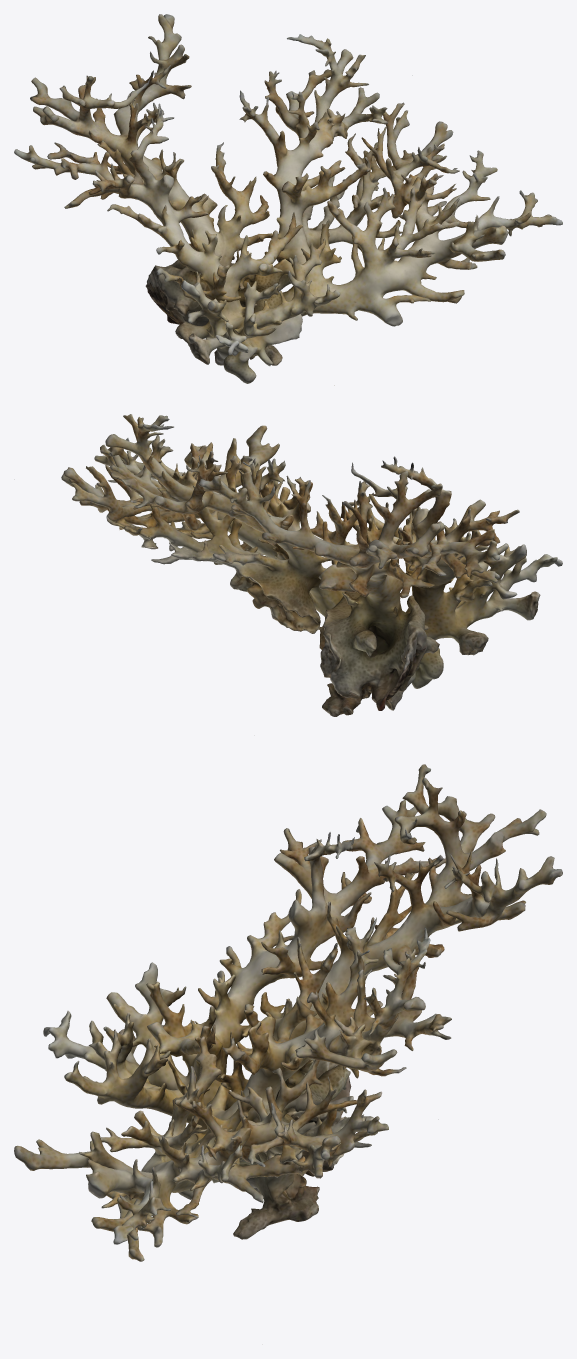
The model's file is usnm_93379-100k-2048_std_draco.glb.
3 renders of one model, top to bottom at view 1: azimuth 30°, elevation 25°; view 2: azimuth 150°, elevation 25°; view 3: azimuth 270°, elevation 25°, orthographic. The views are drawn at different scales.
Bounding box in the file's own units: 0.185 × 0.1258 × 0.1425.
Materials: 1 (1 with a texture image).
